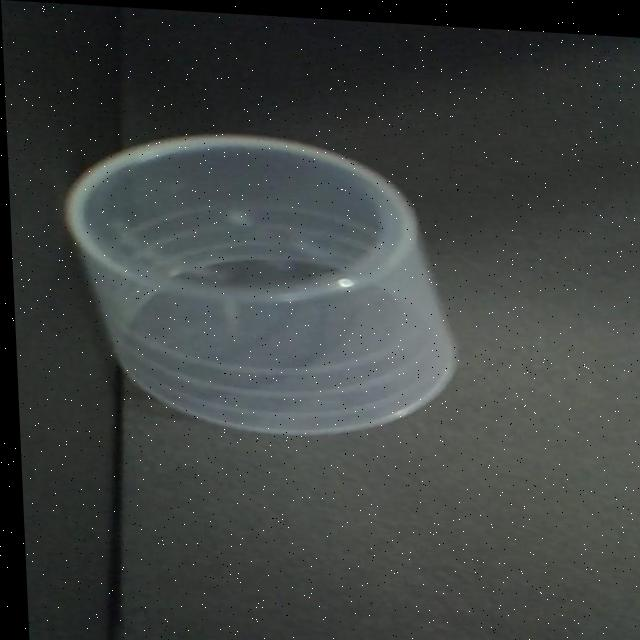cup: (64, 133, 448, 429)
